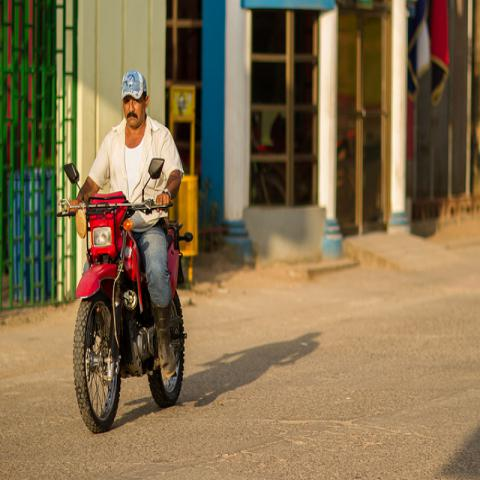motorcycle: (57, 159, 195, 435)
